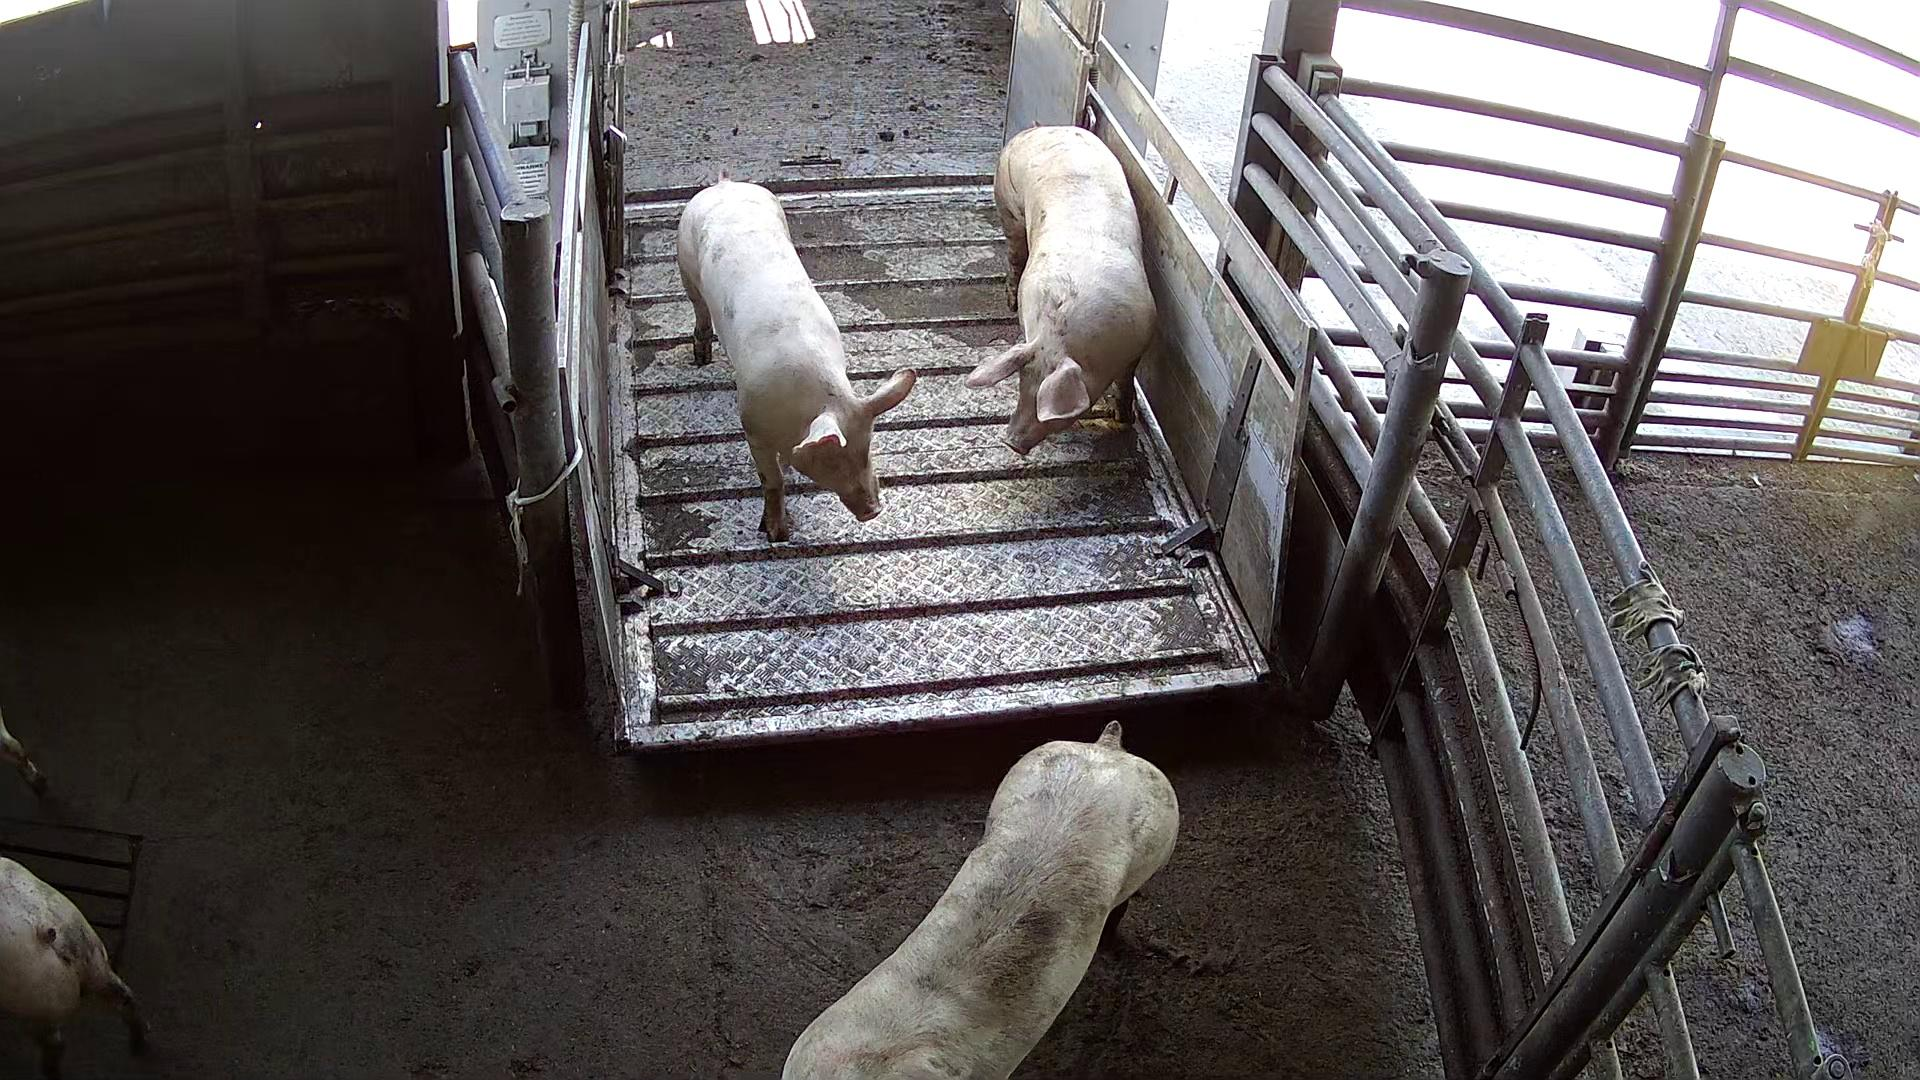Pig: (783, 723, 1180, 1080), (676, 177, 916, 541), (967, 123, 1158, 454), (0, 858, 144, 1080)
